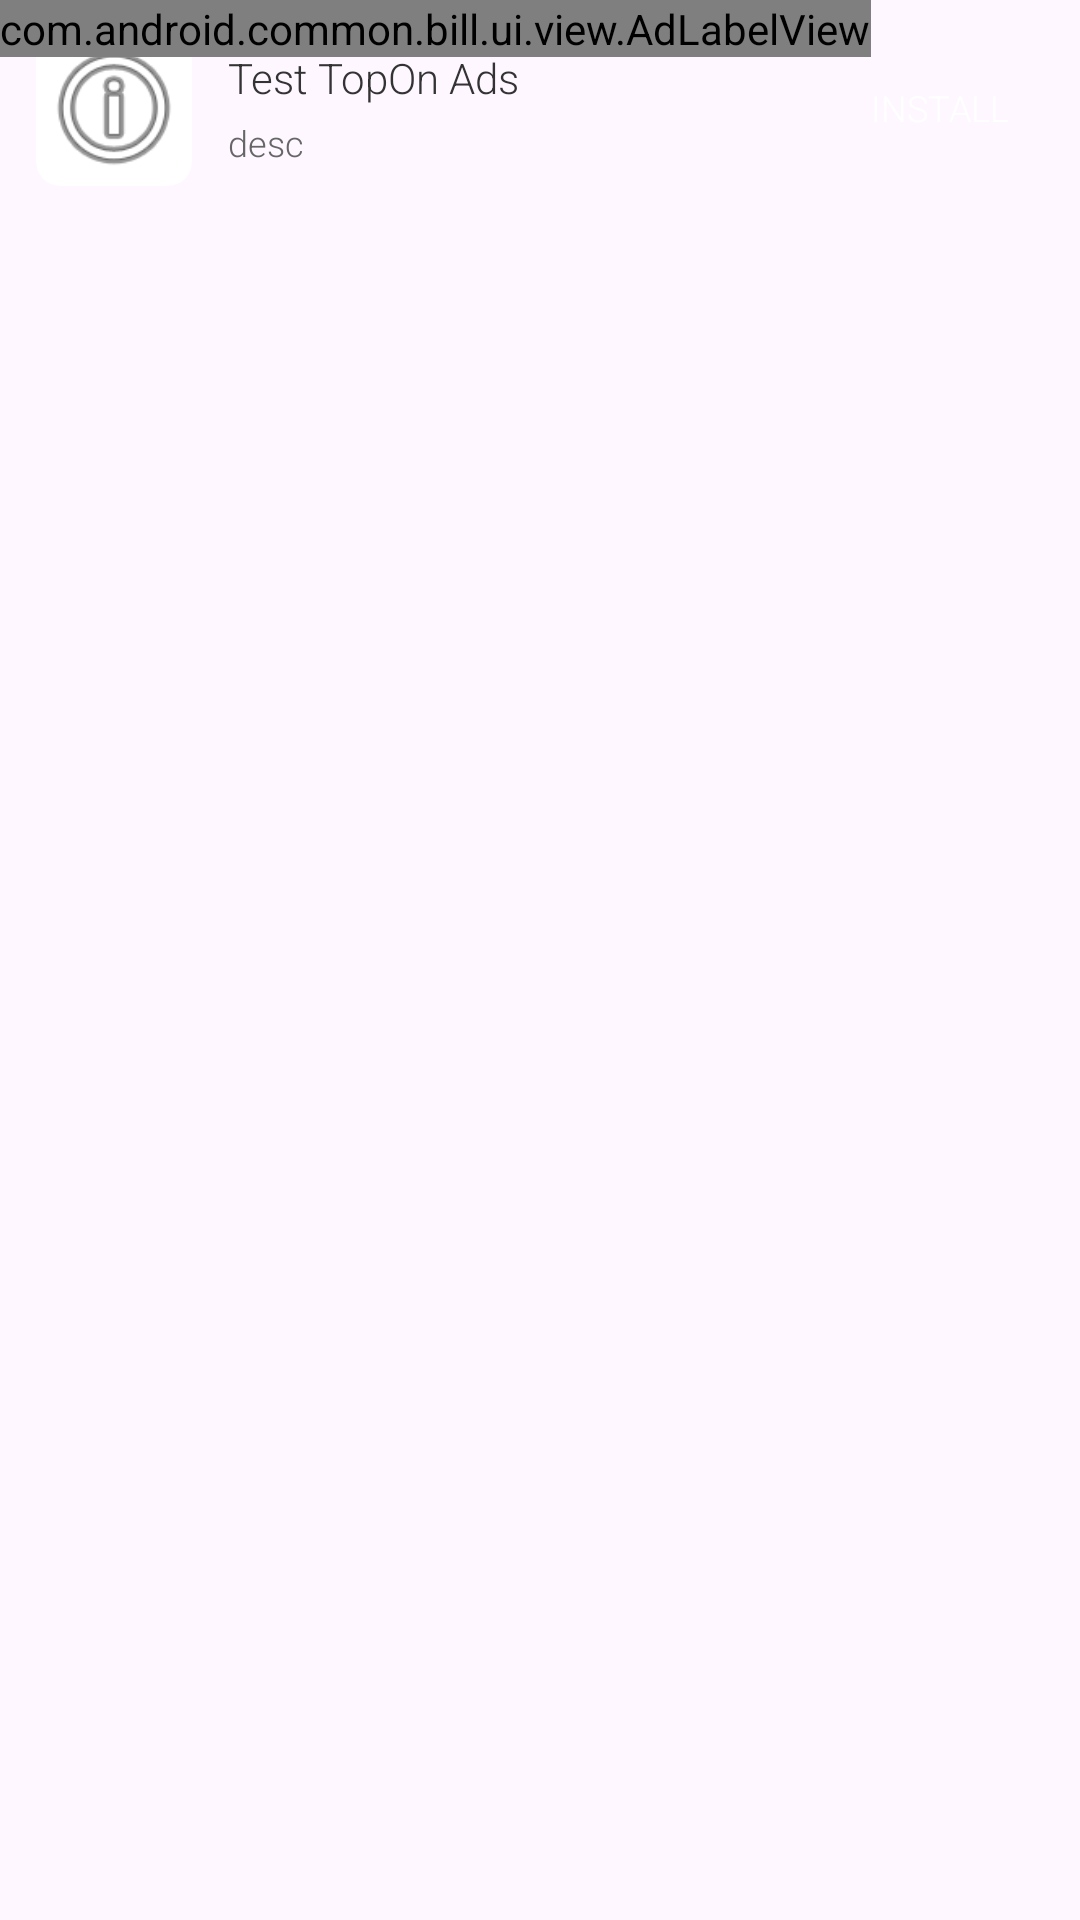

Named icons in this screenshot (1080*1920) and their bounding boxes, (x1, y1, x2, y2):
info details: (36, 30, 192, 164)
